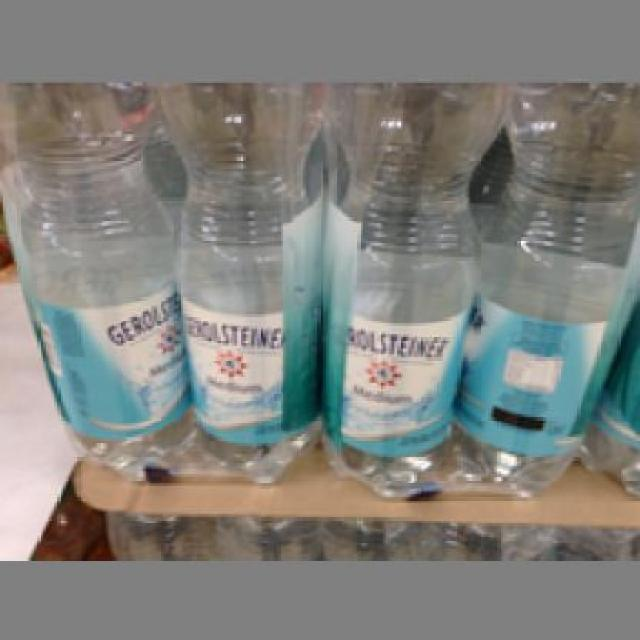Water: (314, 79, 503, 492), (0, 81, 192, 469), (148, 80, 332, 483), (465, 82, 638, 488)
